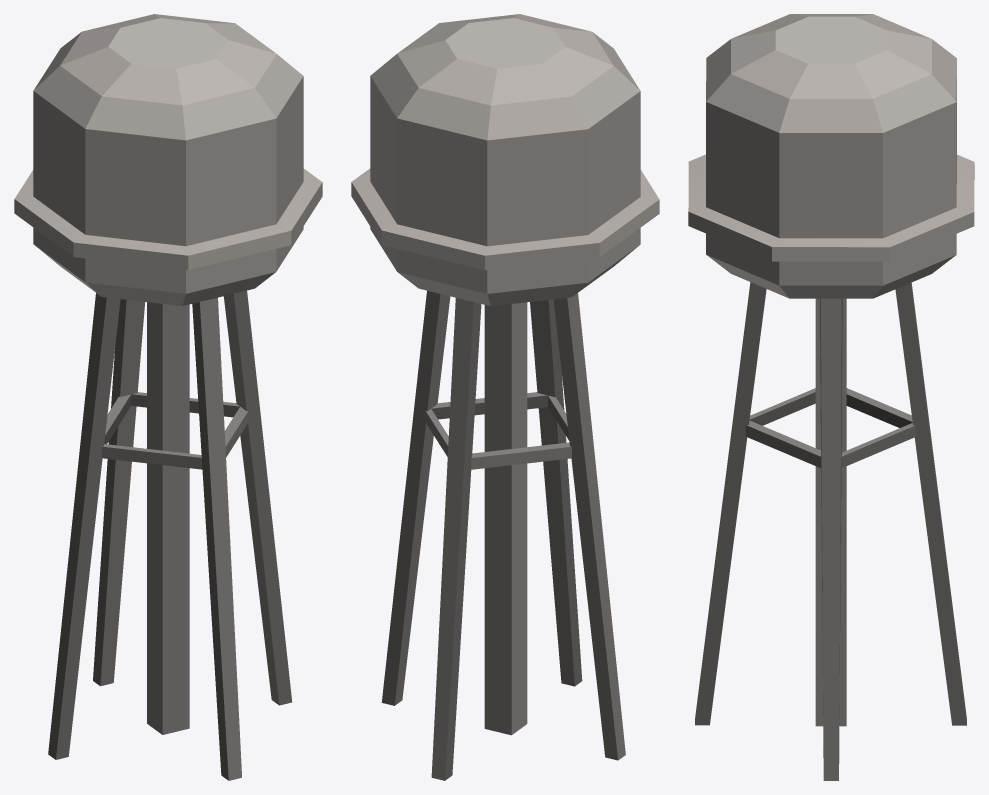
Rendered from SA_Bld_WaterTower_01.glb.
The picture shows the model from 3 angles, left to right: view 1: azimuth 30°, elevation 25°; view 2: azimuth 150°, elevation 25°; view 3: azimuth 270°, elevation 25°; orthographic projection.
Parts seen in each view (by area): view 1: SA_Bld_WaterTower_01; view 2: SA_Bld_WaterTower_01; view 3: SA_Bld_WaterTower_01.
Boxes of the visible parts, x1,y1,x2,y2 form: SA_Bld_WaterTower_01: (14,14,322,780); SA_Bld_WaterTower_01: (351,14,659,780); SA_Bld_WaterTower_01: (688,14,974,780).
Size of the model in its own units: 3.74 by 9.85 by 3.74.
1 material, 1 textured.
